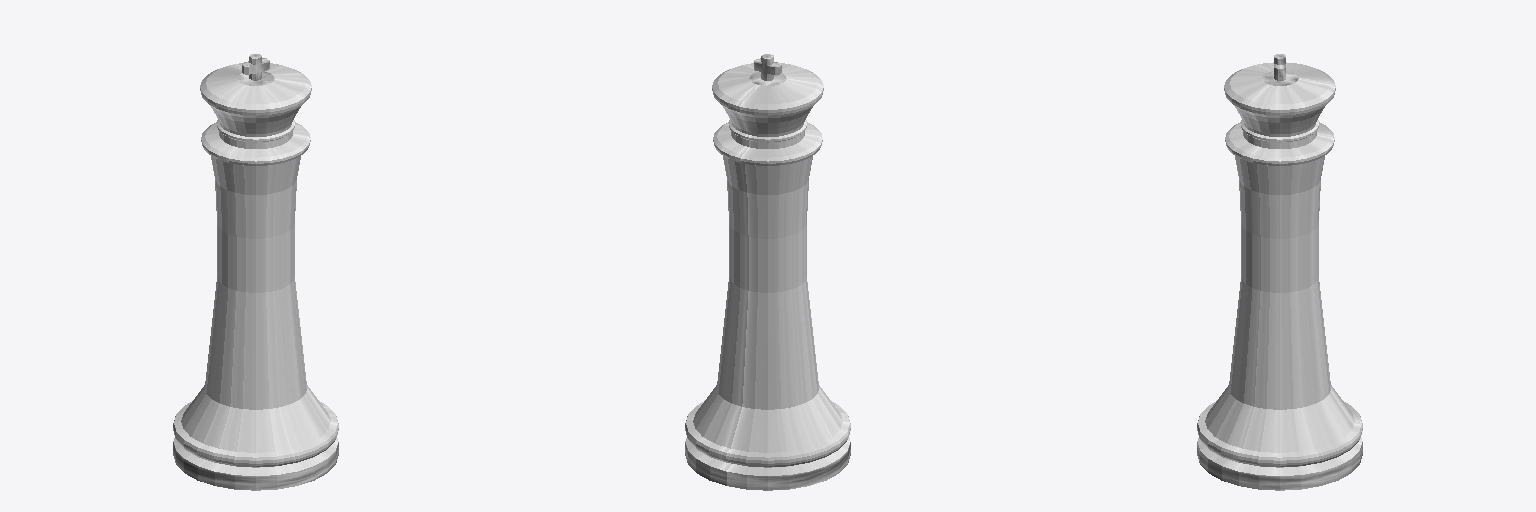
The picture shows the model from 3 angles: view 1: azimuth 30°, elevation 25°; view 2: azimuth 150°, elevation 25°; view 3: azimuth 270°, elevation 25°; orthographic projection.
Parts seen in each view (by area): view 1: King_Cylinder.034; view 2: King_Cylinder.034; view 3: King_Cylinder.034.
Part boxes in pixels (left/top/right/bottom): King_Cylinder.034: left=173, top=54, right=338, bottom=490; King_Cylinder.034: left=685, top=54, right=850, bottom=490; King_Cylinder.034: left=1197, top=54, right=1362, bottom=490.
Size of the model in its own units: 1.51 by 4.01 by 1.51.
1 materials, 1 textured.